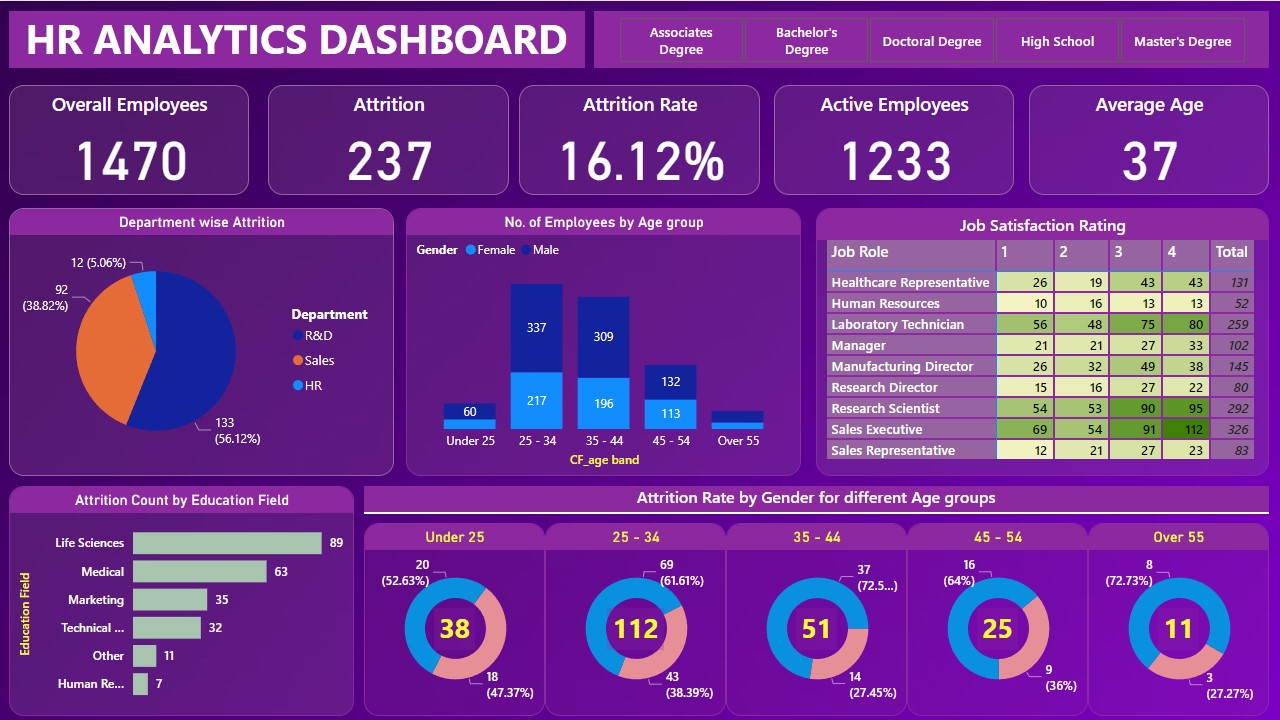

Layout of this report page (visuals, bound fields, positions):
{"tool":"powerbi","page":{"name":"Page 1","canvas":[1280,720],"ordinal":0},"visuals":[{"type":"card","title":"Overall Employees","fields":{"Values":["Sum(HR data.Employee Count)"]},"box":[9,84,240,110],"z":0},{"type":"card","title":"Attrition","fields":{"Values":["Sum(HR data.Attrition Count)"]},"box":[268,84,241,110],"z":1000},{"type":"card","title":"Attrition Rate","fields":{"Values":["HR data.Attrition Rate"]},"box":[519,84,241,110],"z":2000},{"type":"card","title":"Active Employees","fields":{"Values":["HR data.Active Employees"]},"box":[774,84,240,110],"z":3000},{"type":"card","title":"Average Age","fields":{"Values":["Avg(HR data.Age)"]},"box":[1029,84,240,110],"z":4000},{"type":"pieChart","title":"Department wise Attrition","fields":{"Category":["HR data.Department"],"Y":["Sum(HR data.Attrition Count)"]},"box":[9,207,385,268],"z":5000},{"type":"columnChart","title":"No. of Employees by Age group","fields":{"Category":["HR data.CF_age band"],"Y":["Sum(HR data.Employee Count)"],"Series":["HR data.Gender"]},"box":[406,207,395,268],"z":6000},{"type":"pivotTable","title":"Job Satisfaction Rating","fields":{"Rows":["HR data.Job Role"],"Columns":["HR data.Job Satisfaction"],"Values":["Sum(HR data.Employee Count)"]},"box":[816,207,453,268],"z":7000},{"type":"barChart","title":"Attrition Count by Education Field","fields":{"Category":["HR data.Education Field"],"Y":["Sum(HR data.Attrition Count)"]},"box":[9,485,345,230],"z":8000},{"type":"donutChart","title":"Under 25","fields":{"Category":["HR data.Gender"],"Y":["Sum(HR data.Attrition Count)"],"Series":["HR data.CF_age band"]},"box":[364,522,181,193],"z":9000},{"type":"textbox","title":"Attrition Rate by Gender for different Age groups","box":[364,485,905,28],"z":10000},{"type":"donutChart","title":"25 - 34","fields":{"Category":["HR data.Gender"],"Y":["Sum(HR data.Attrition Count)"],"Series":["HR data.CF_age band"]},"box":[545,522,181,193],"z":11000},{"type":"donutChart","title":"35 - 44","fields":{"Category":["HR data.Gender"],"Y":["Sum(HR data.Attrition Count)"],"Series":["HR data.CF_age band"]},"box":[726,522,181,193],"z":12000},{"type":"donutChart","title":"45 - 54","fields":{"Category":["HR data.Gender"],"Y":["Sum(HR data.Attrition Count)"],"Series":["HR data.CF_age band"]},"box":[907,522,181,193],"z":13000},{"type":"donutChart","title":"Over 55","fields":{"Category":["HR data.Gender"],"Y":["Sum(HR data.Attrition Count)"],"Series":["HR data.CF_age band"]},"box":[1088,522,181,193],"z":14000},{"type":"card","fields":{"Values":["Sum(HR data.Attrition Count)"]},"box":[434,607,41,42],"z":15000},{"type":"card","fields":{"Values":["Sum(HR data.Attrition Count)"]},"box":[607,607,57,42],"z":16000},{"type":"card","fields":{"Values":["Sum(HR data.Attrition Count)"]},"box":[796,607,41,42],"z":17000},{"type":"card","fields":{"Values":["Sum(HR data.Attrition Count)"]},"box":[977,607,41,42],"z":18000},{"type":"card","fields":{"Values":["Sum(HR data.Attrition Count)"]},"box":[1158,607,41,42],"z":19000},{"type":"textbox","title":"HR ANALYTICS DASHBOARD","box":[9,10,576,57],"z":20000},{"type":"slicer","fields":{"Values":["HR data.Education"]},"box":[594,10,675,57],"z":21000}]}

Visuals, with their boxes in screenshot pixels (x1, y1, x2, y2), scaled from the page's 1280x720 canvas onto the 1280x720 screenshot:
"Overall Employees" card: crop(9, 84, 249, 194)
"Attrition" card: crop(268, 84, 509, 194)
"Attrition Rate" card: crop(519, 84, 760, 194)
"Active Employees" card: crop(774, 84, 1014, 194)
"Average Age" card: crop(1029, 84, 1269, 194)
"Department wise Attrition" pieChart: crop(9, 207, 394, 475)
"No. of Employees by Age group" columnChart: crop(406, 207, 801, 475)
"Job Satisfaction Rating" pivotTable: crop(816, 207, 1269, 475)
"Attrition Count by Education Field" barChart: crop(9, 485, 354, 715)
"Under 25" donutChart: crop(364, 522, 545, 715)
"Attrition Rate by Gender for different Age groups" textbox: crop(364, 485, 1269, 513)
"25 - 34" donutChart: crop(545, 522, 726, 715)
"35 - 44" donutChart: crop(726, 522, 907, 715)
"45 - 54" donutChart: crop(907, 522, 1088, 715)
"Over 55" donutChart: crop(1088, 522, 1269, 715)
card - Sum(HR data.Attrition Count): crop(434, 607, 475, 649)
card - Sum(HR data.Attrition Count): crop(607, 607, 664, 649)
card - Sum(HR data.Attrition Count): crop(796, 607, 837, 649)
card - Sum(HR data.Attrition Count): crop(977, 607, 1018, 649)
card - Sum(HR data.Attrition Count): crop(1158, 607, 1199, 649)
"HR ANALYTICS DASHBOARD" textbox: crop(9, 10, 585, 67)
slicer - HR data.Education: crop(594, 10, 1269, 67)
